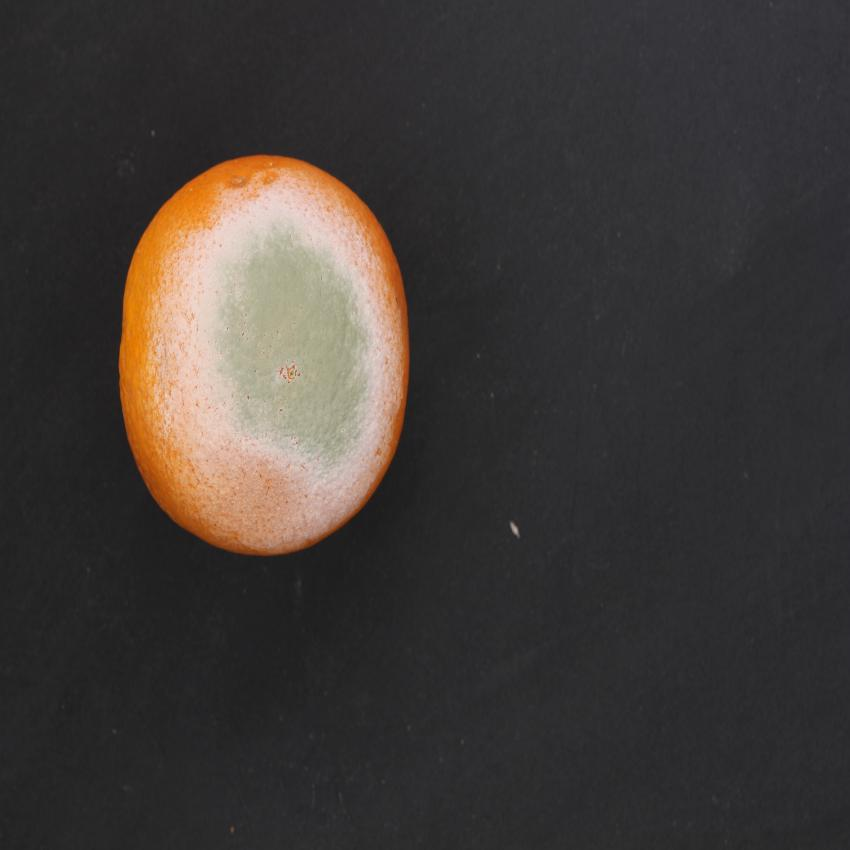Mal estado: (111, 142, 423, 576)
